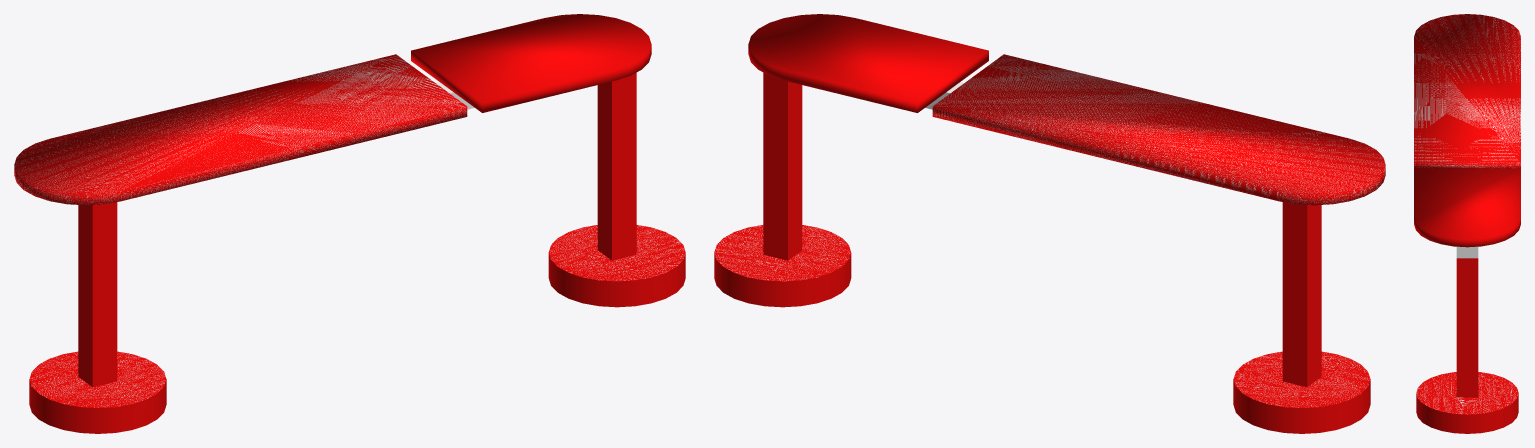
3 views of the same model, side by side, from view 1: azimuth 30°, elevation 25°; view 2: azimuth 150°, elevation 25°; view 3: azimuth 270°, elevation 25° (orthographic). The views are drawn at different scales.
Visible parts, largest first — view 1: mesh6_mesh6-geometry, mesh1_mesh1-geometry, mesh5_mesh5-geometry; view 2: mesh6_mesh6-geometry, mesh1_mesh1-geometry, mesh5_mesh5-geometry; view 3: mesh6_mesh6-geometry, mesh1_mesh1-geometry, mesh5_mesh5-geometry, mesh9_mesh9-geometry.
Boxes of the visible parts, box(x1,y1,x2,y2) form: mesh6_mesh6-geometry: box(14, 54, 467, 205); mesh1_mesh1-geometry: box(29, 72, 685, 433); mesh5_mesh5-geometry: box(411, 14, 651, 112); mesh6_mesh6-geometry: box(932, 54, 1385, 205); mesh1_mesh1-geometry: box(714, 72, 1370, 433); mesh5_mesh5-geometry: box(748, 14, 988, 112); mesh6_mesh6-geometry: box(1414, 14, 1520, 168); mesh1_mesh1-geometry: box(1416, 258, 1518, 433); mesh5_mesh5-geometry: box(1414, 168, 1520, 247); mesh9_mesh9-geometry: box(1456, 246, 1478, 258).
Bounding box in the file's own units: 0.9264 × 0.3299 × 0.1755.
